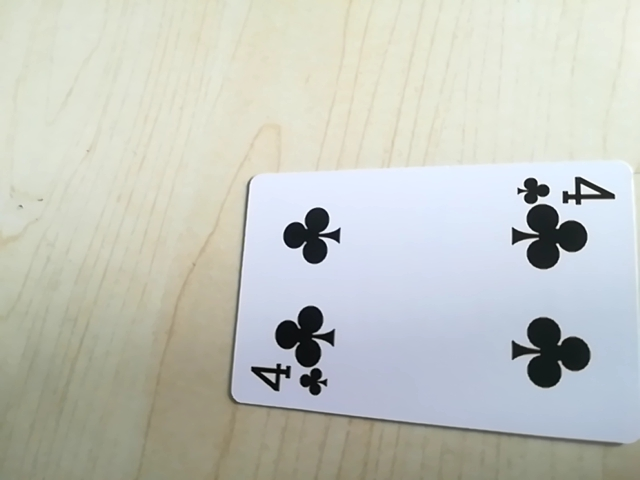mh 4: (512, 168, 616, 209), (243, 361, 334, 400)
